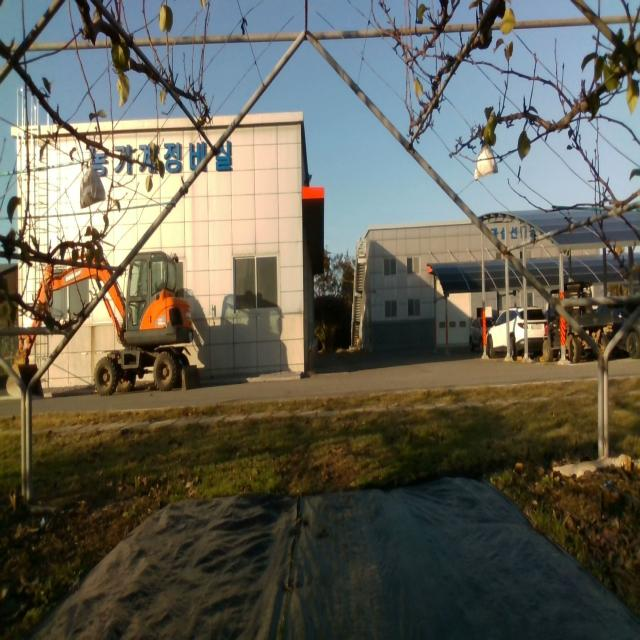pearbags: (79, 156, 106, 209), (475, 143, 497, 179)
